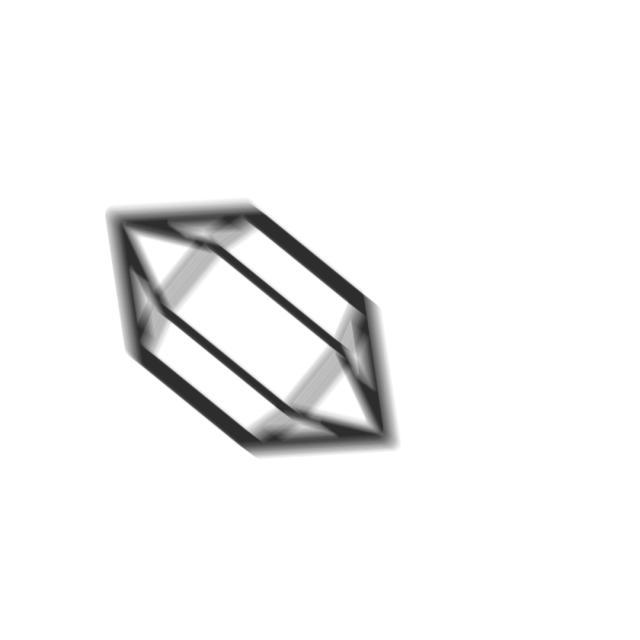crystal: (93, 201, 405, 464)
